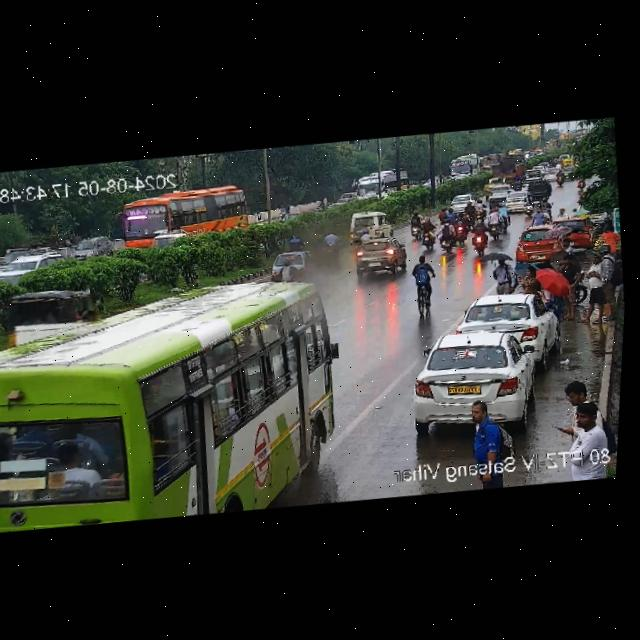bus: (0, 277, 351, 535), (105, 179, 255, 254), (350, 166, 413, 202), (441, 154, 482, 181)
car: (403, 323, 563, 436), (451, 288, 559, 356), (512, 221, 583, 264), (352, 236, 408, 276), (264, 243, 312, 281), (346, 207, 394, 240), (448, 192, 479, 214), (526, 178, 553, 199), (484, 184, 513, 200)
motorcycle: (402, 253, 442, 317), (407, 207, 437, 249), (466, 218, 494, 253), (434, 216, 461, 251), (481, 206, 507, 239), (523, 190, 535, 217), (540, 197, 553, 220), (574, 171, 588, 192), (552, 167, 565, 187)
person: (550, 375, 602, 447), (459, 401, 515, 466), (550, 404, 617, 458), (566, 261, 610, 322), (488, 256, 522, 295), (517, 263, 543, 294), (529, 206, 546, 227)
truck: (489, 152, 527, 184)
